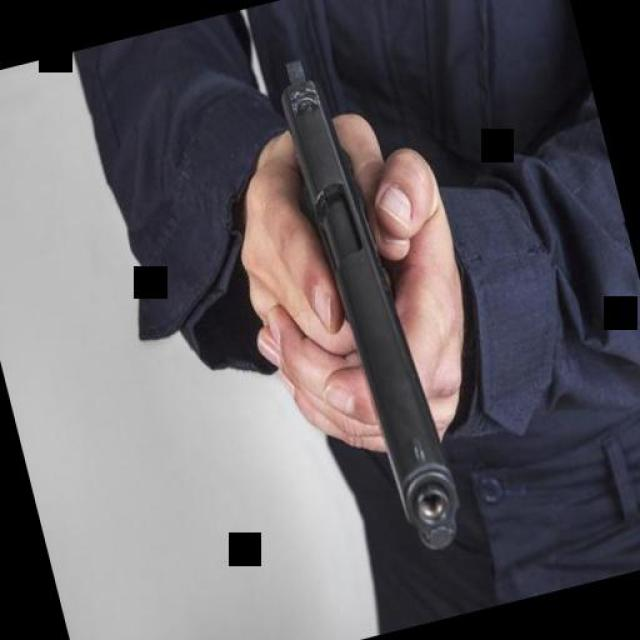gun: (260, 34, 479, 581)
